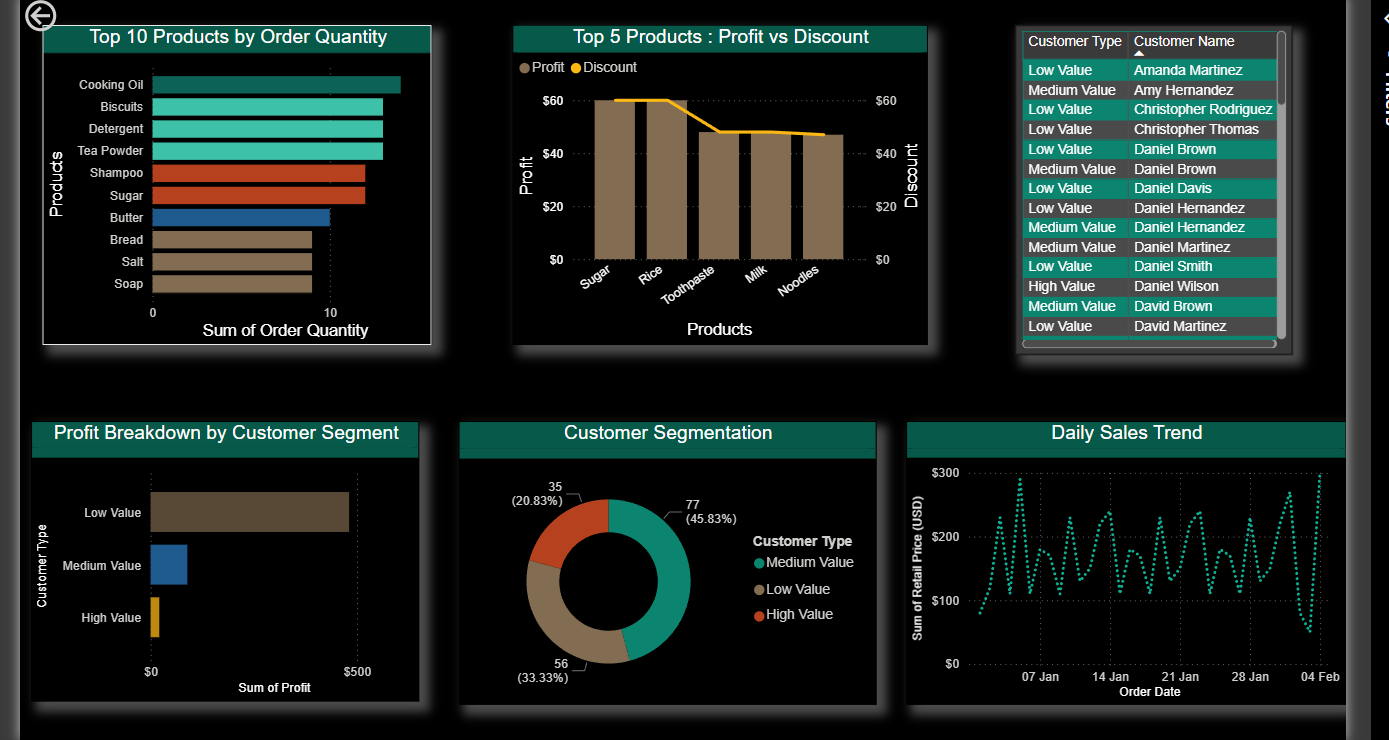

This screenshot's page, from the dashboard's own definition file:
{"tool":"powerbi","page":{"name":"Page 2","canvas":[1280,720],"ordinal":1},"visuals":[{"type":"barChart","title":"Profit Breakdown by Customer Segment","fields":{"Category":["Sheet1.Customer Type"],"Y":["Sum(Sheet1.Profit)"]},"box":[11,411.7,374.6,270.3],"z":0},{"type":"clusteredBarChart","title":"Top 10 Products by Order Quantity","fields":{"Category":["Sheet1.Products"],"Y":["Sum(Sheet1.Order Quantity)"]},"box":[21.2,28.8,376.2,308.8],"z":1000},{"type":"lineStackedColumnComboChart","title":"Top 5 Products : Profit vs Discount","fields":{"Category":["Sheet1.Products"],"Y":["Sum(Sheet1.Profit)"],"Y2":["Sum(Sheet1.Discount)"]},"box":[474.8,28.8,400.7,308.7],"z":2000},{"type":"lineChart","title":"Daily Sales Trend","fields":{"Category":["Sheet1.Order Date"],"Y":["Sum(Sheet1.Retail Price (USD))"]},"box":[855.4,411.4,424.7,273.9],"z":3000},{"type":"actionButton","box":[0,0,100,40],"z":4000},{"type":"donutChart","title":"Customer Segmentation","fields":{"Category":["Sheet1.Customer Type"],"Y":["Sum(Sheet1.Order Quantity)"]},"box":[423.5,411.4,403,273.9],"z":5000},{"type":"tableEx","fields":{"Values":["Sheet1.Customer Type","Sheet1.Customer Name"]},"box":[960.3,29,267.8,318.5],"z":6000}]}

Visuals, with their boxes on the page's 1280x720 design canvas (x1, y1, x2, y2). These are canvas units, not pixel positions in the 1389x740 screenshot, which may show the page scaled, cropped or inside an application window:
"Profit Breakdown by Customer Segment" barChart: bbox=[11, 412, 386, 682]
"Top 10 Products by Order Quantity" clusteredBarChart: bbox=[21, 29, 397, 338]
"Top 5 Products : Profit vs Discount" lineStackedColumnComboChart: bbox=[475, 29, 876, 338]
"Daily Sales Trend" lineChart: bbox=[855, 411, 1280, 685]
actionButton: bbox=[0, 0, 100, 40]
"Customer Segmentation" donutChart: bbox=[424, 411, 826, 685]
tableEx - Sheet1.Customer Type x Sheet1.Customer Name: bbox=[960, 29, 1228, 348]
